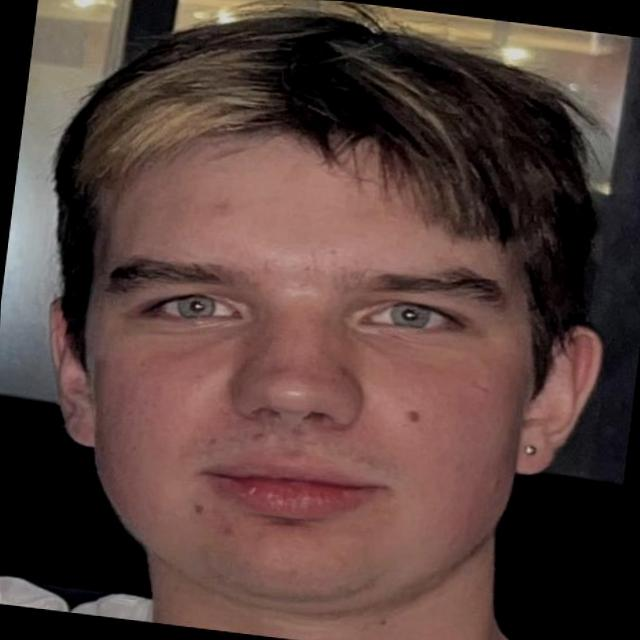acne: (208, 197, 238, 221), (323, 245, 343, 261), (318, 241, 329, 248)
nodules: (213, 520, 243, 542)
